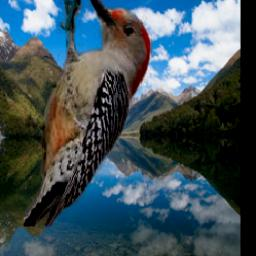Woodpecker: (23, 0, 151, 226)
